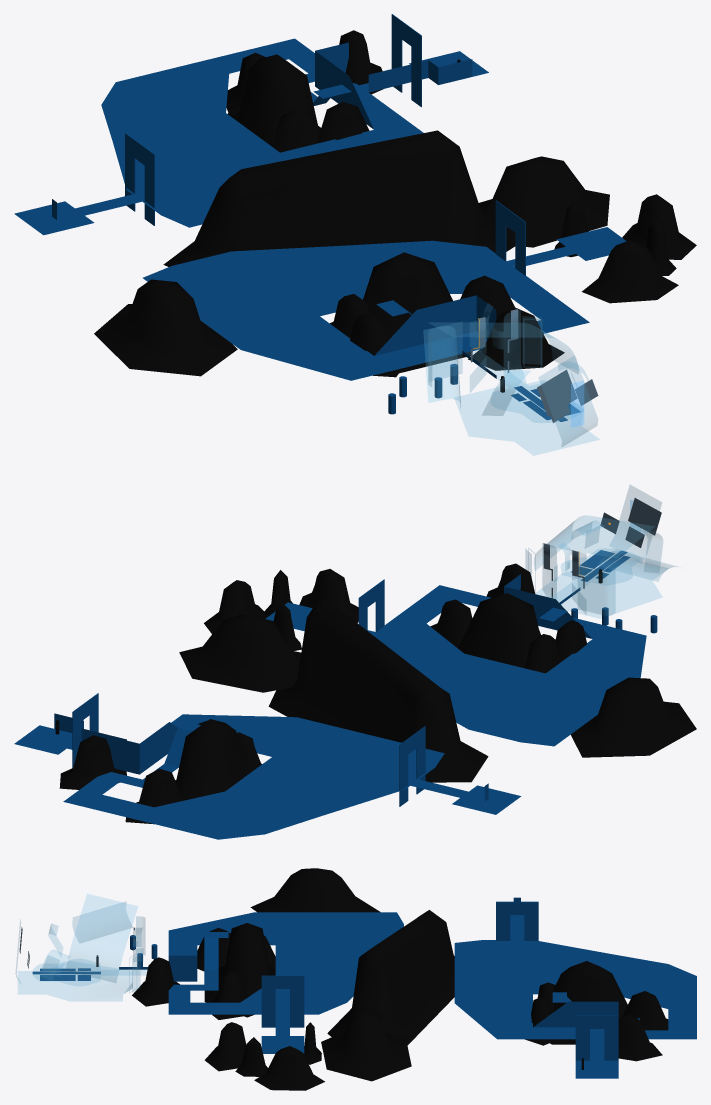
Rendered from world_1e.glb.
3 renders of one model, top to bottom at view 1: azimuth 30°, elevation 25°; view 2: azimuth 150°, elevation 25°; view 3: azimuth 270°, elevation 25°, orthographic. The views are drawn at different scales.
Visible parts, largest first — view 1: Cube.001, Plane.001, Plane.004; view 2: Plane.001, Cube.001, Plane.004; view 3: Plane.001, Cube.001, Plane.004.
Boxes of the visible parts, x1,y1,x2,y2 form: Cube.001: (94, 30, 696, 392); Plane.001: (14, 14, 626, 422); Plane.004: (423, 303, 599, 455); Plane.001: (14, 549, 657, 839); Cube.001: (55, 563, 696, 824); Plane.004: (525, 485, 677, 618); Plane.001: (32, 897, 696, 1078); Cube.001: (96, 868, 668, 1090); Plane.004: (15, 894, 145, 1001).
Bounding box in the file's own units: 65.55 × 13.29 × 95.77.
Materials: 6 (1 with a texture image).
